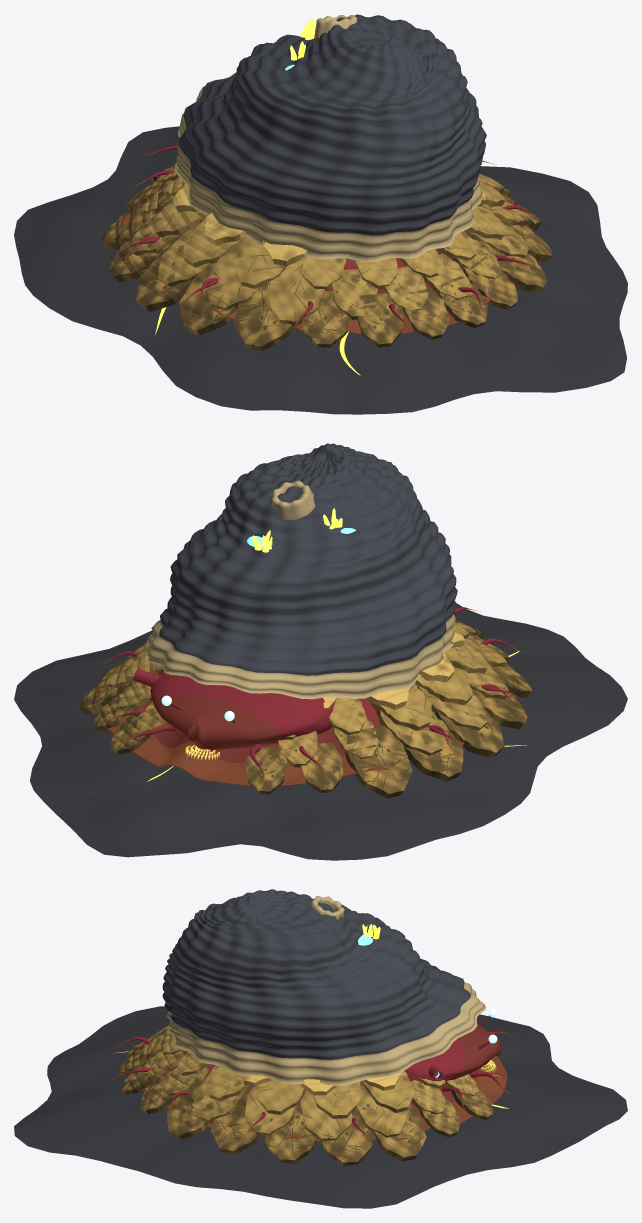
File: snail_3d.glb
3 views of the same model, one above another, from view 1: azimuth 30°, elevation 25°; view 2: azimuth 150°, elevation 25°; view 3: azimuth 270°, elevation 25° (orthographic). The views are drawn at different scales.
Parts seen in each view (by area): view 1: Basalt_Base, Main_Shell, Scale_L3_10, Scale_L4_12, Scale_L4_13, Scale_L4_10, Scale_L3_11, Scale_L4_11, Scale_L2_09, Scale_L4_14, Scale_L4_09, Scale_L3_09 (+23 smaller); view 2: Main_Shell, Basalt_Base, Head_Shield, Foot_Skirt, Scale_L4_16, Scale_L4_15, Scale_L4_18, Scale_L4_14, Scale_L4_17, Scale_L3_13, Scale_L2_11, Scale_L3_12 (+15 smaller); view 3: Main_Shell, Basalt_Base, Head_Shield, Foot_Skirt, Scale_L4_04, Scale_L4_05, Scale_L4_03, Scale_L4_02, Scale_L3_02, Scale_L4_06, Scale_L3_03, Scale_L2_03 (+15 smaller).
Boxes of the visible parts, x1,y1,x2,y2 form: Basalt_Base: (14, 126, 627, 414); Main_Shell: (175, 14, 486, 262); Scale_L3_10: (266, 260, 327, 326); Scale_L4_12: (234, 283, 293, 350); Scale_L4_13: (179, 262, 237, 335); Scale_L4_10: (356, 293, 403, 347); Scale_L3_11: (206, 242, 258, 310); Scale_L4_11: (302, 291, 349, 347); Scale_L2_09: (233, 237, 286, 288); Scale_L4_14: (136, 246, 192, 311); Scale_L4_09: (403, 288, 449, 339); Scale_L3_09: (332, 269, 377, 319); Main_Shell: (147, 443, 457, 699); Basalt_Base: (14, 603, 627, 860); Head_Shield: (150, 669, 334, 752); Foot_Skirt: (96, 686, 512, 785); Scale_L4_16: (345, 725, 412, 798); Scale_L4_15: (401, 719, 463, 781); Scale_L4_18: (246, 747, 287, 794); Scale_L4_14: (434, 709, 504, 757); Scale_L4_17: (300, 742, 343, 792); Scale_L3_13: (375, 709, 444, 755); Scale_L2_11: (369, 683, 431, 730); Scale_L3_12: (416, 685, 487, 730); Main_Shell: (162, 889, 486, 1086); Basalt_Base: (14, 1006, 627, 1208); Head_Shield: (404, 1023, 501, 1084); Foot_Skirt: (139, 1051, 507, 1141); Scale_L4_04: (265, 1102, 315, 1163); Scale_L4_05: (210, 1093, 258, 1154); Scale_L4_03: (322, 1109, 372, 1165); Scale_L4_02: (373, 1104, 426, 1161); Scale_L3_02: (356, 1085, 408, 1137); Scale_L4_06: (166, 1080, 207, 1139); Scale_L3_03: (300, 1090, 351, 1142); Scale_L2_03: (256, 1079, 305, 1114).
Size of the model in its own units: 3.68 by 1.74 by 4.56.
Materials: 17 (4 with a texture image).
